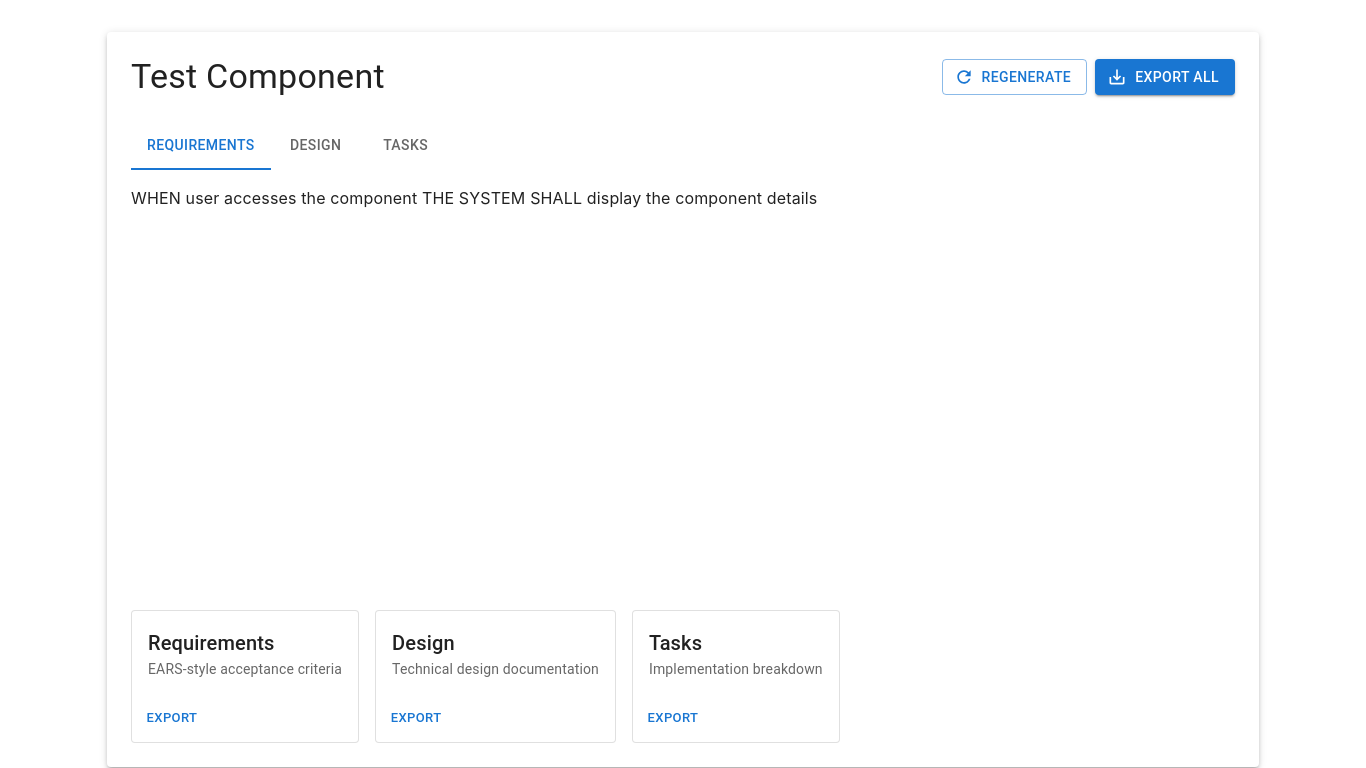
it: ComponentSpecificationViewer › should regenerate specifications when regenerate button is clicked
Check: the heading "Test Component" is shown, box [131,56,385,98]
# Click regenerate button
Click the button "Regenerate". click: (1014,77)
box: [942,59,1087,95]
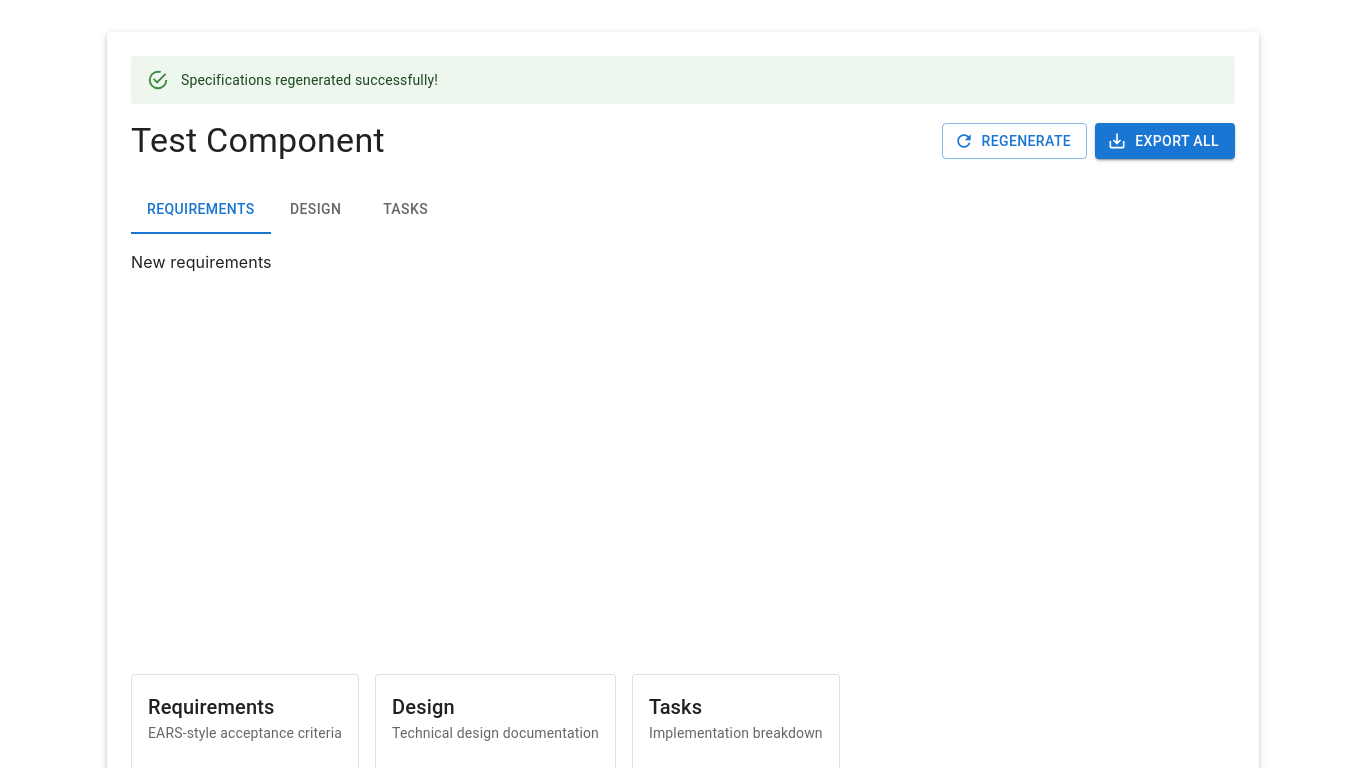
Check: the text "Specifications regenerated successfully!" is shown, box [181,72,438,88]
